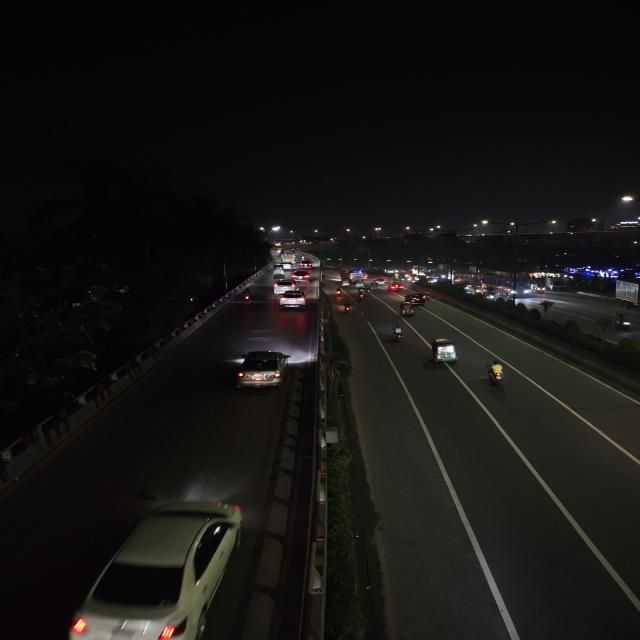bus: (454, 272, 500, 290), (505, 278, 529, 298), (345, 268, 365, 282), (280, 248, 296, 262)
car: (53, 500, 249, 640), (238, 349, 290, 394), (280, 290, 303, 310), (274, 282, 295, 294), (408, 292, 426, 306), (292, 272, 311, 284), (299, 259, 316, 270), (388, 282, 406, 292), (373, 278, 388, 286)
cng: (430, 340, 462, 364), (398, 301, 414, 315), (531, 284, 547, 294), (272, 264, 285, 276), (370, 284, 381, 291)
motorcycle: (485, 358, 508, 395), (390, 326, 410, 342), (243, 288, 254, 308), (342, 302, 354, 315), (355, 288, 365, 298), (333, 284, 341, 295), (364, 285, 371, 295)
truck: (548, 277, 566, 292)
